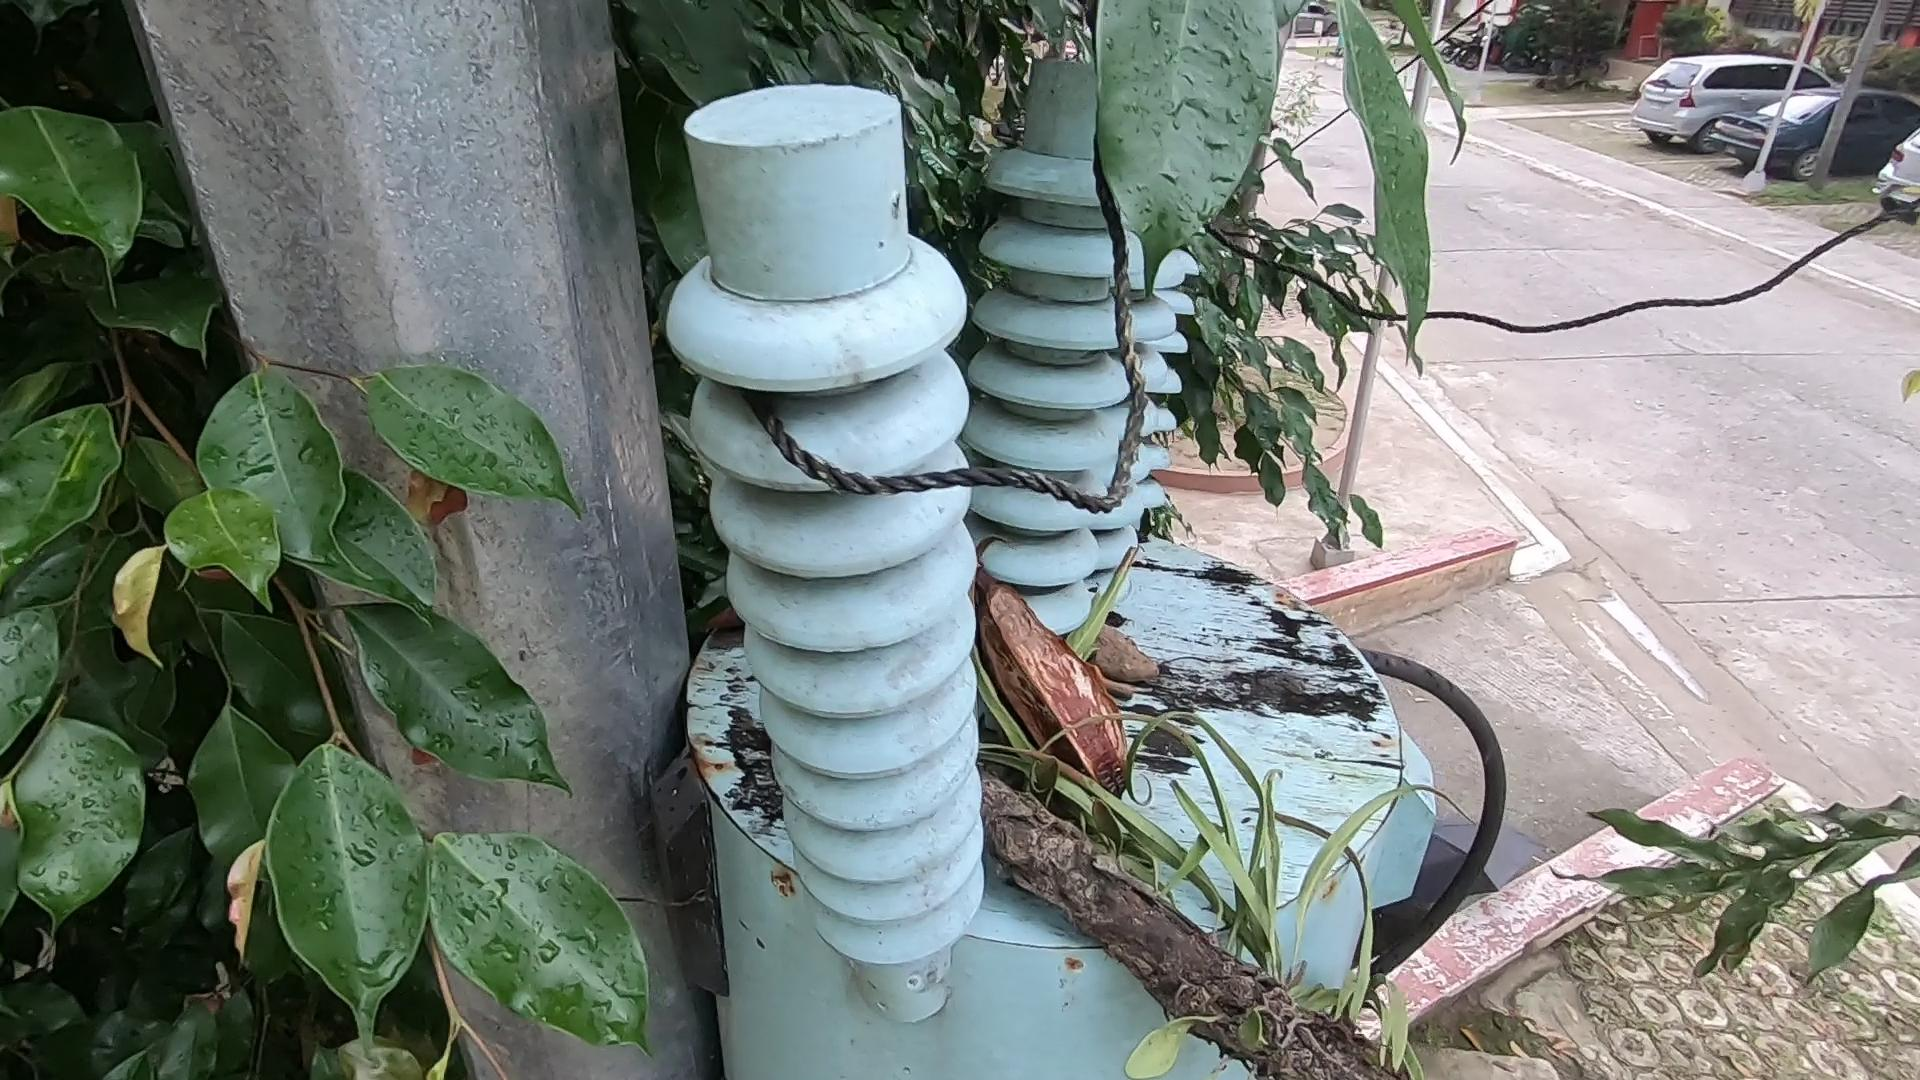branch with leaves: (968, 692, 1592, 1073)
leaf: (702, 593, 749, 649)
mahogany fruit: (964, 549, 1118, 789), (1095, 592, 1168, 698)
tree branch: (1098, 671, 1216, 744)
